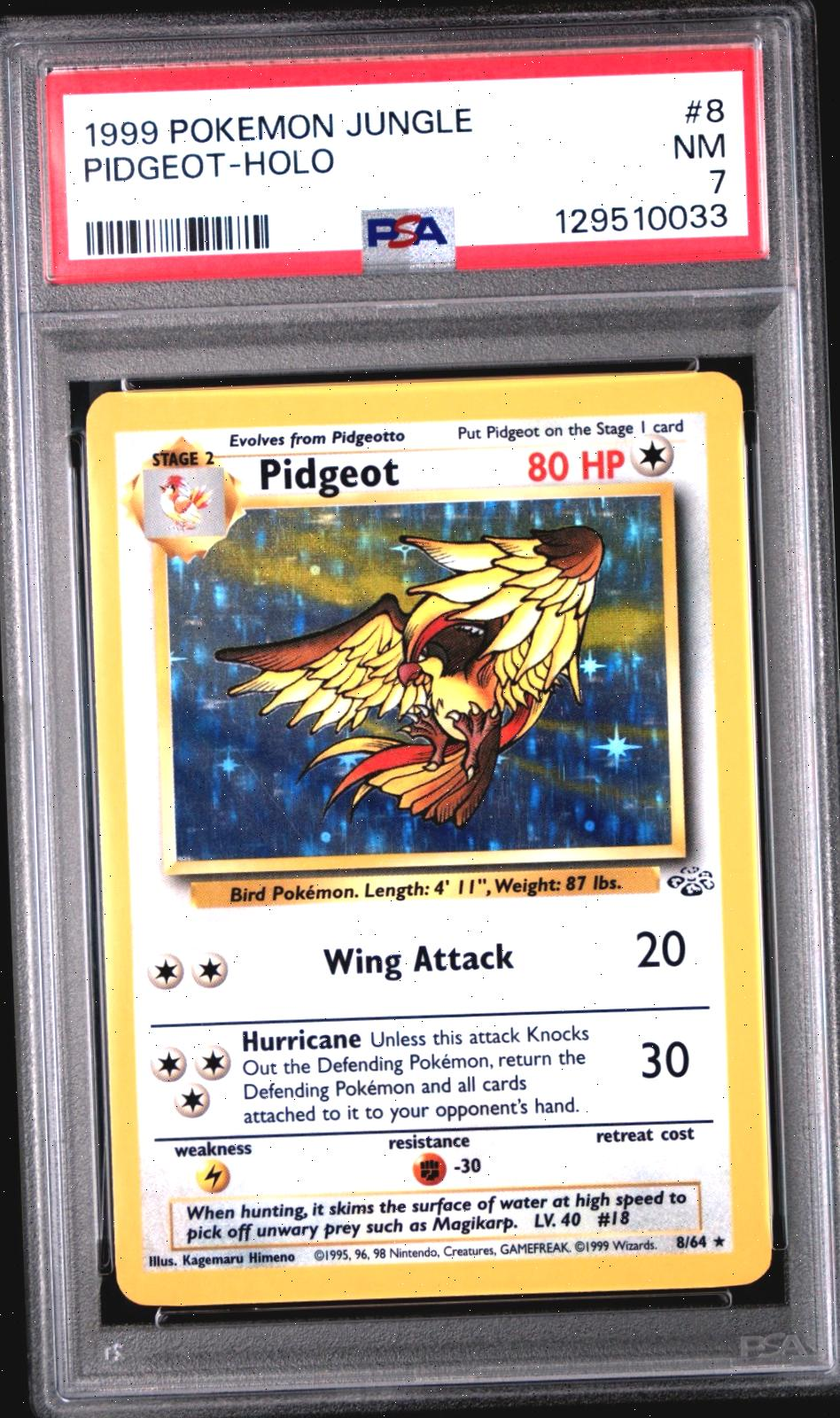card-2UtV: (84, 370, 772, 1307)
